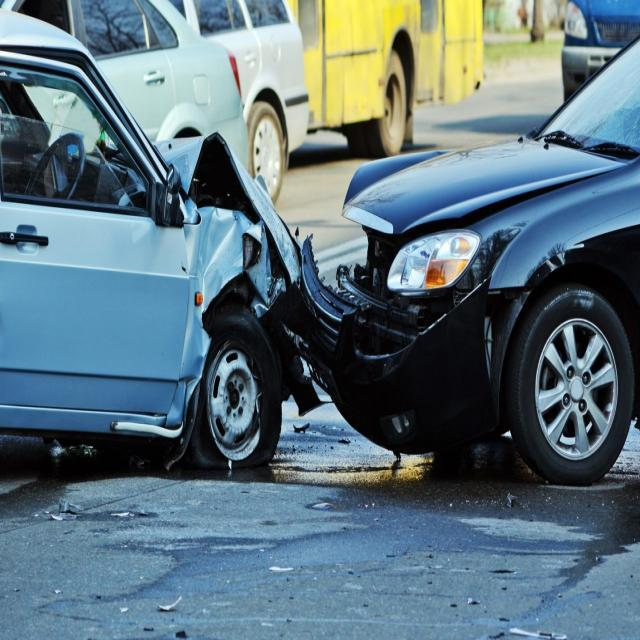accident: (0, 8, 640, 492)
